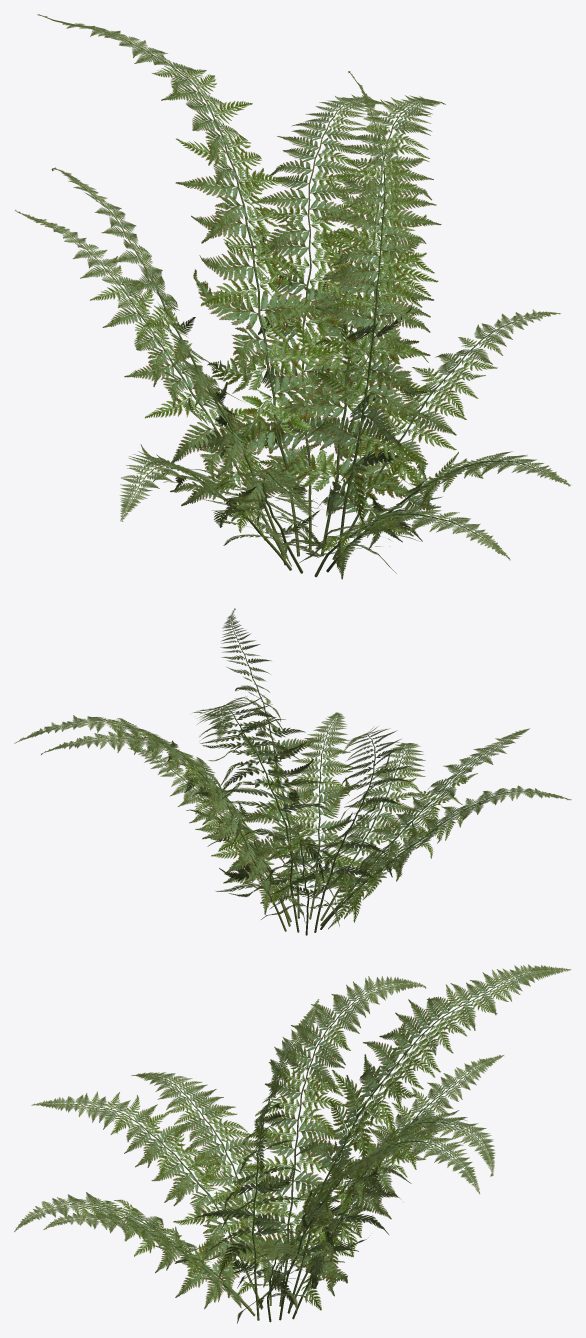
Rendered from microlepia-angustipinna-fern.glb.
3 renders of one model, top to bottom at view 1: azimuth 30°, elevation 25°; view 2: azimuth 150°, elevation 25°; view 3: azimuth 270°, elevation 25°, orthographic. The views are drawn at different scales.
Visible parts, largest first — view 1: Fern; view 2: Fern; view 3: Fern.
Part boxes in pixels (x1,y1,x2,y2): Fern: (15,14,570,579); Fern: (14,608,571,935); Fern: (14,964,571,1323).
Bounding box in the file's own units: 0.6505 × 0.5084 × 0.7517.
Materials: 3 (3 with a texture image).
